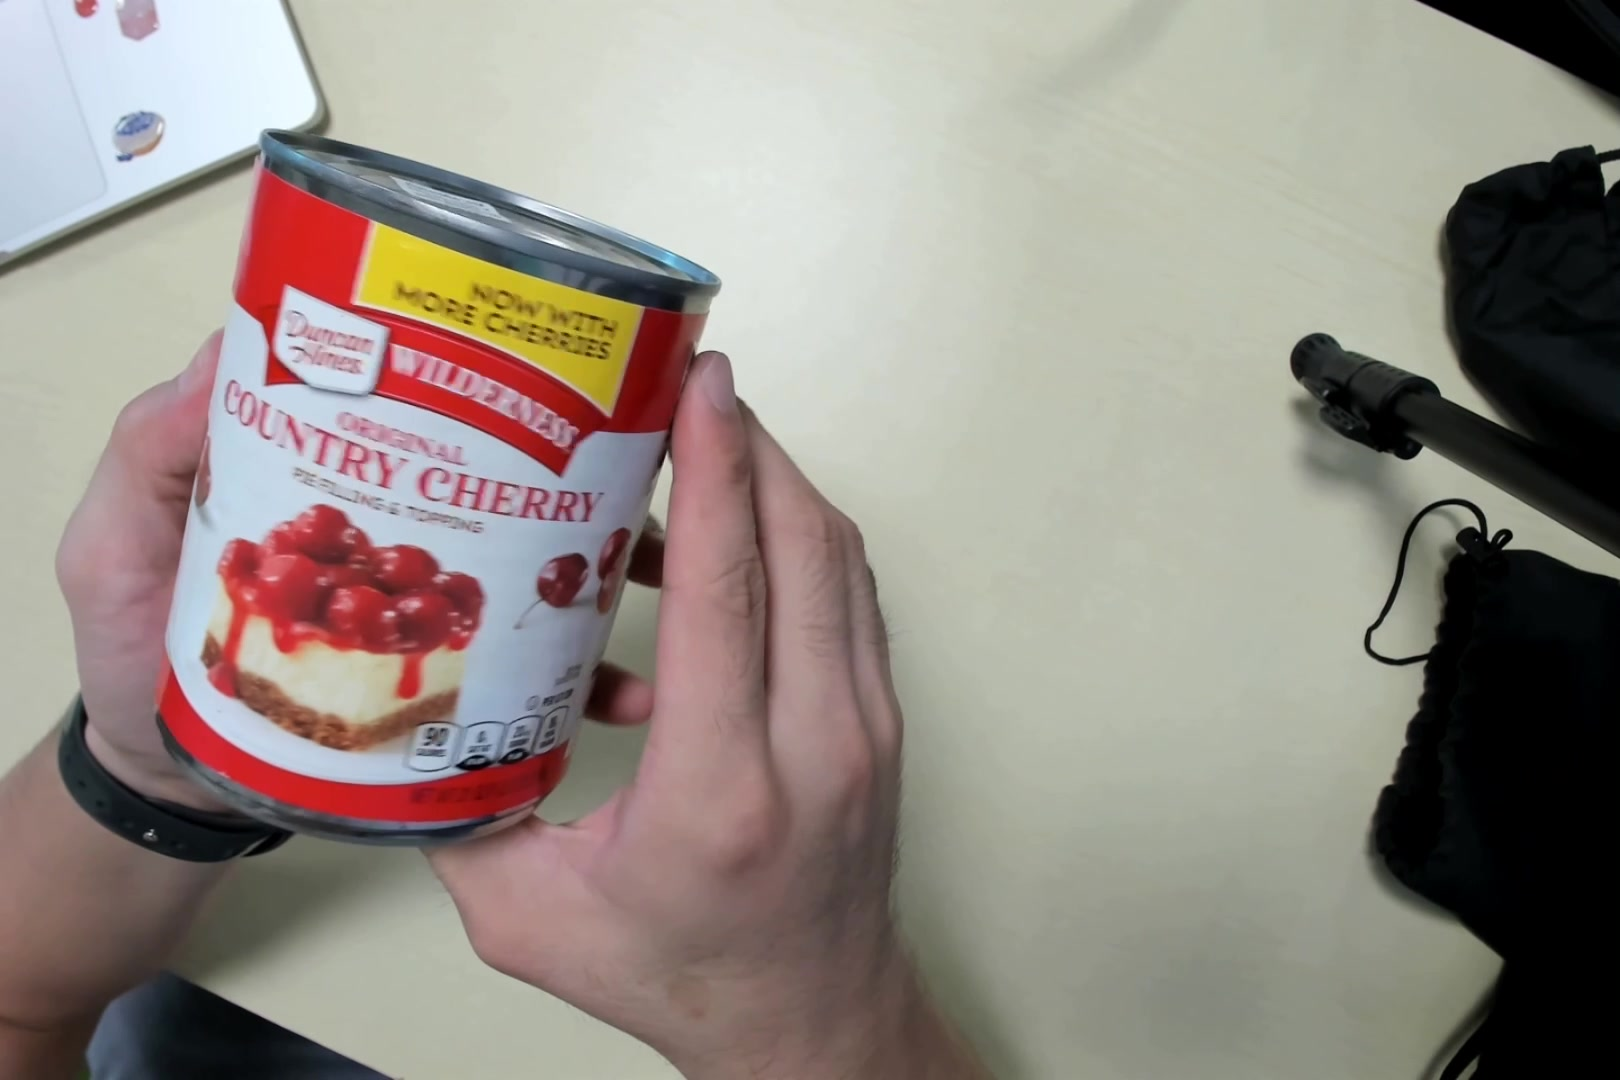OtherBakingNeeds_500-599g_NonHalal_NonHealthy: (174, 157, 712, 862)
